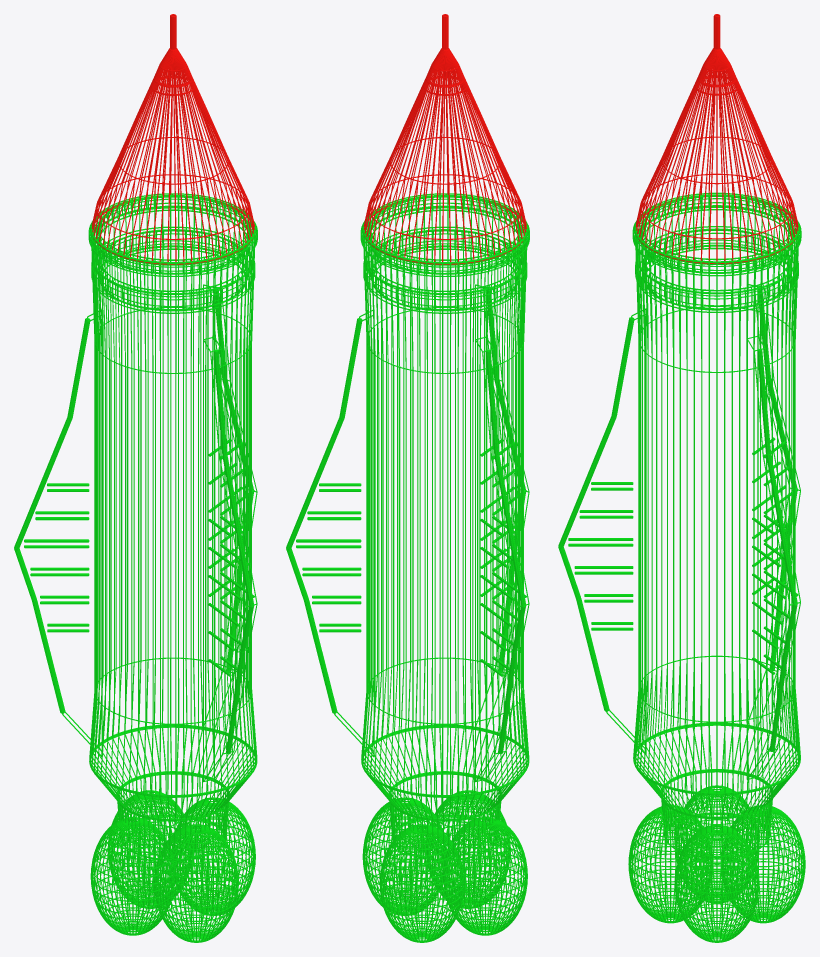
The model's file is mega-missile-highlight-nose-guidance-sensors.glb.
The picture shows the model from 3 angles, left to right: view 1: azimuth 30°, elevation 25°; view 2: azimuth 150°, elevation 25°; view 3: azimuth 270°, elevation 25°; orthographic projection.
Visible parts, largest first — view 1: chassis technical wire, four-directional-thrusters technical wire, manoeuvring-fins technical wire, nose-guidance-sensors technical wire; view 2: chassis technical wire, four-directional-thrusters technical wire, manoeuvring-fins technical wire, nose-guidance-sensors technical wire; view 3: chassis technical wire, four-directional-thrusters technical wire, manoeuvring-fins technical wire, nose-guidance-sensors technical wire.
Boxes of the visible parts, bbox=[...] form: chassis technical wire: bbox=[88, 193, 257, 860]; four-directional-thrusters technical wire: bbox=[90, 790, 255, 942]; manoeuvring-fins technical wire: bbox=[14, 284, 257, 782]; nose-guidance-sensors technical wire: bbox=[91, 14, 254, 264]; chassis technical wire: bbox=[360, 193, 529, 860]; four-directional-thrusters technical wire: bbox=[362, 790, 527, 942]; manoeuvring-fins technical wire: bbox=[286, 284, 529, 782]; nose-guidance-sensors technical wire: bbox=[363, 14, 526, 264]; chassis technical wire: bbox=[632, 192, 801, 858]; four-directional-thrusters technical wire: bbox=[628, 785, 805, 942]; manoeuvring-fins technical wire: bbox=[558, 284, 800, 779]; nose-guidance-sensors technical wire: bbox=[635, 14, 798, 264].
Bounding box in the file's own units: 1.8 × 6.47 × 1.6.
